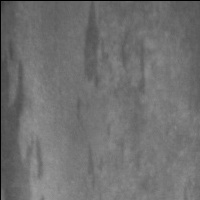inclusion: (2, 37, 45, 200), (111, 23, 150, 147), (81, 5, 109, 92), (83, 142, 105, 191), (74, 94, 89, 126)
